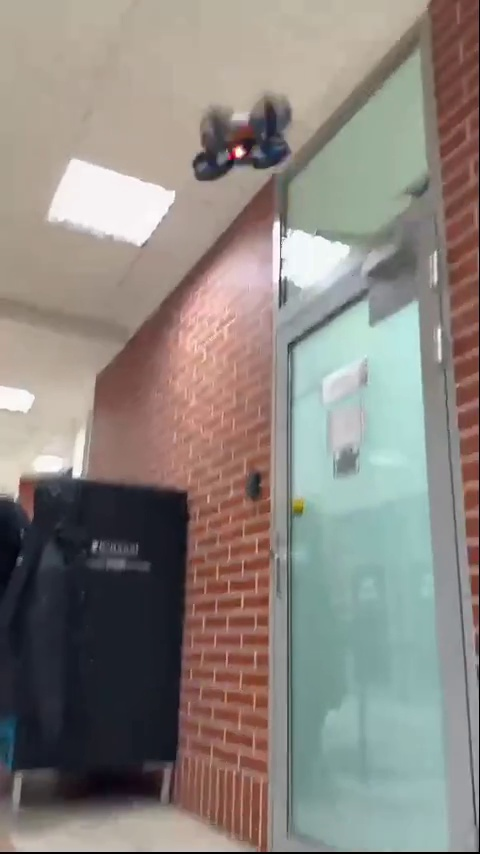drone: (194, 100, 294, 178)
